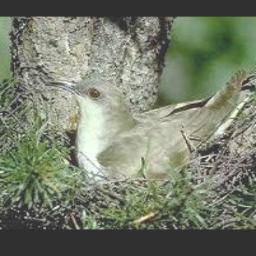Cuckoo: (43, 68, 245, 184)
